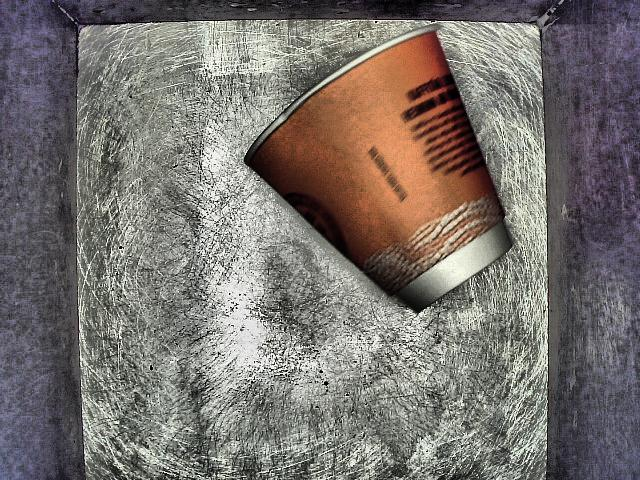Paper: (232, 18, 544, 343)
